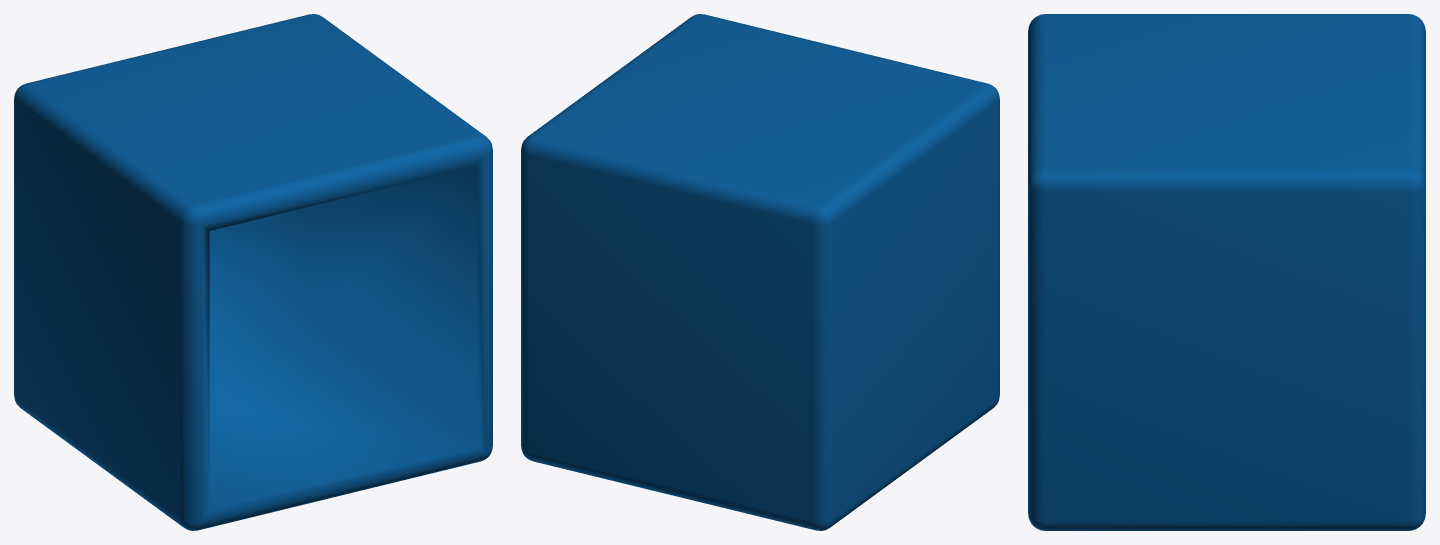
File: ヒレルボックス.fbx
3 renders of one model, left to right at view 1: azimuth 30°, elevation 25°; view 2: azimuth 150°, elevation 25°; view 3: azimuth 270°, elevation 25°, orthographic. The views are drawn at different scales.
Visible parts, largest first — view 1: cube; view 2: cube; view 3: cube.
Part boxes in pixels (left/top/right/bottom): cube: left=14, top=14, right=492, bottom=530; cube: left=521, top=14, right=999, bottom=530; cube: left=1028, top=14, right=1425, bottom=530.
Size of the model in its own units: 35.5 by 35.5 by 35.5.
